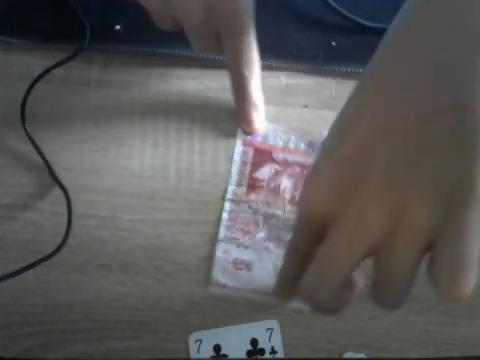5leva: (209, 126, 317, 296)
